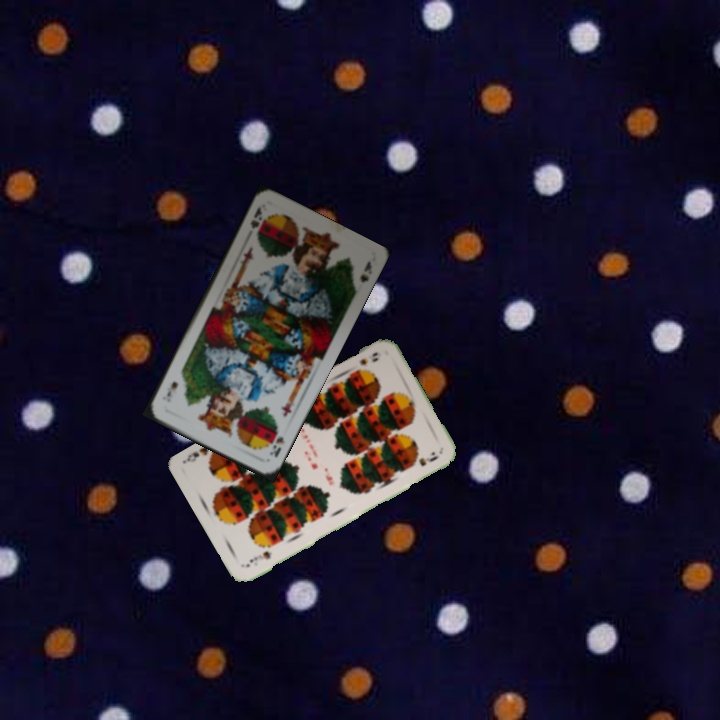S9: (242, 547, 274, 570), (355, 348, 381, 368)
SK: (246, 203, 267, 239), (266, 432, 287, 460)
